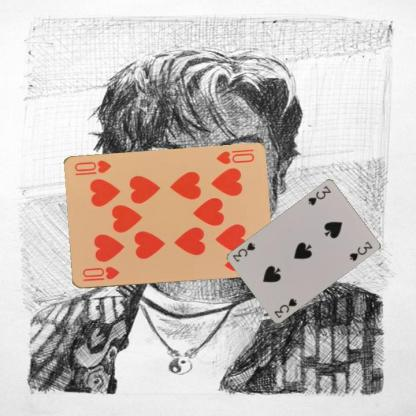10h: (214, 148, 256, 166), (80, 264, 120, 281)
3s: (305, 183, 332, 207), (272, 296, 298, 319)
